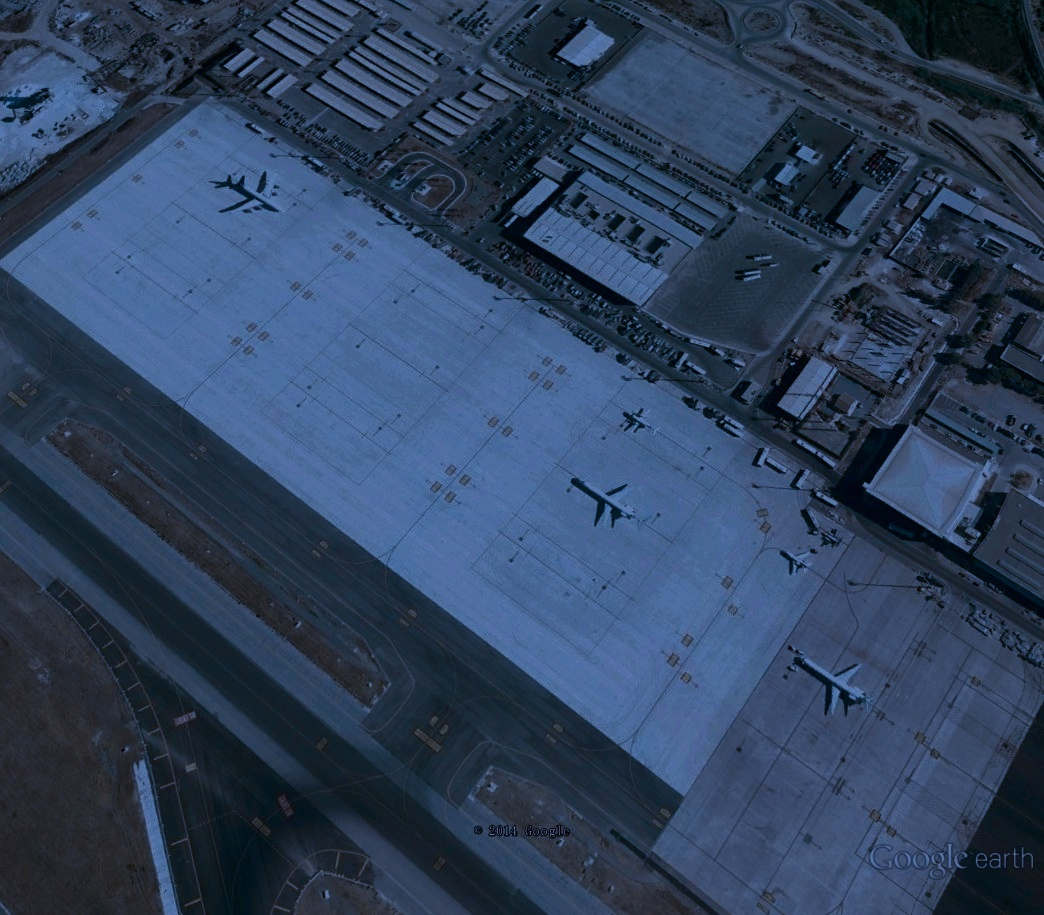aircraft: (792, 649, 876, 720), (570, 474, 640, 532), (217, 166, 286, 219), (777, 547, 817, 580), (624, 406, 658, 436)
